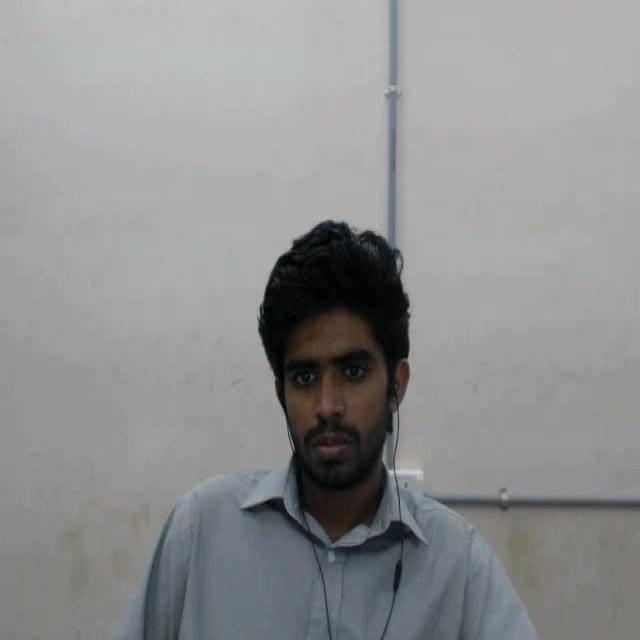Engaged: (239, 184, 459, 510)
